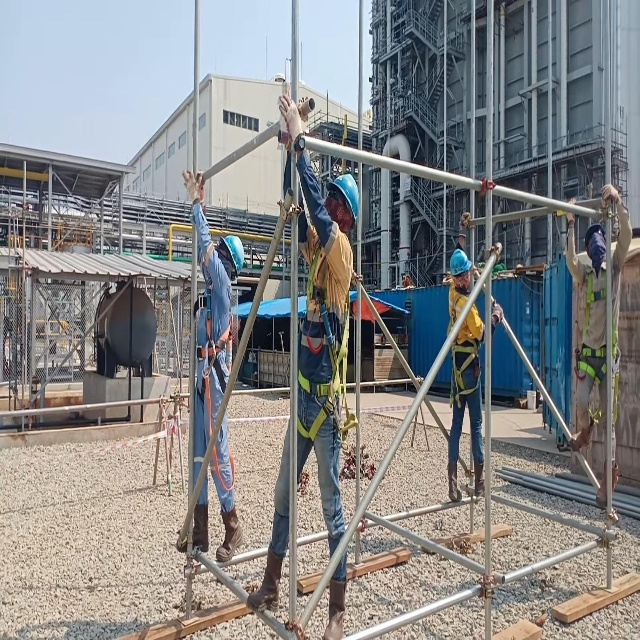Arnes_seguridad: (294, 231, 361, 454), (193, 279, 238, 494), (573, 257, 624, 422), (445, 282, 484, 415)
